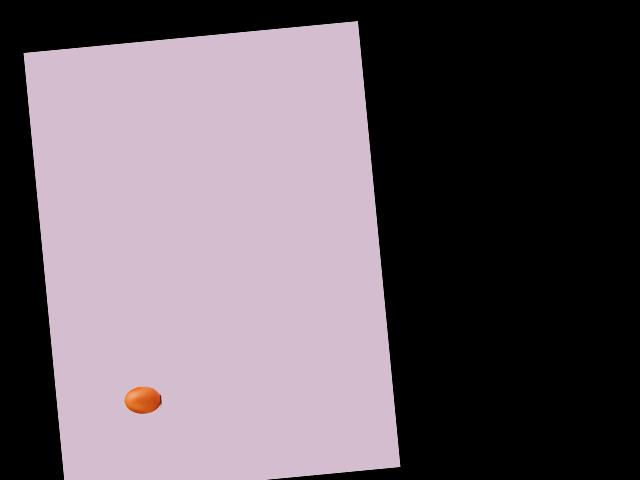egg: (123, 385, 162, 415)
